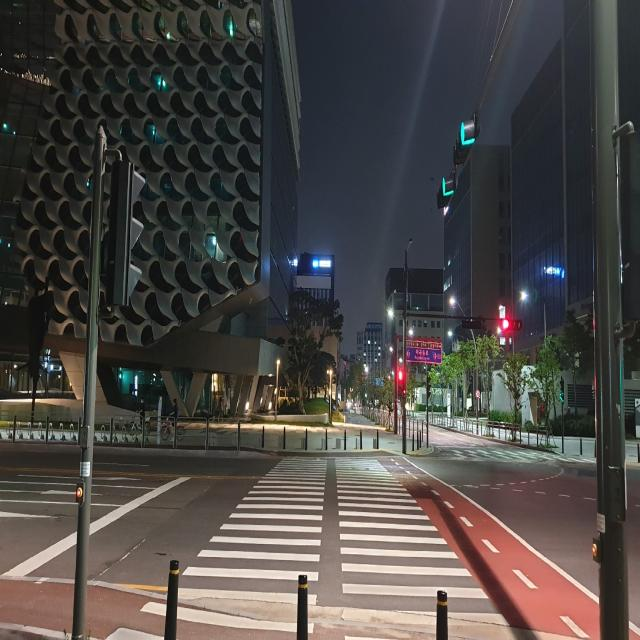빨간불: (398, 368, 405, 398)
횡단보도: (102, 453, 511, 640)
